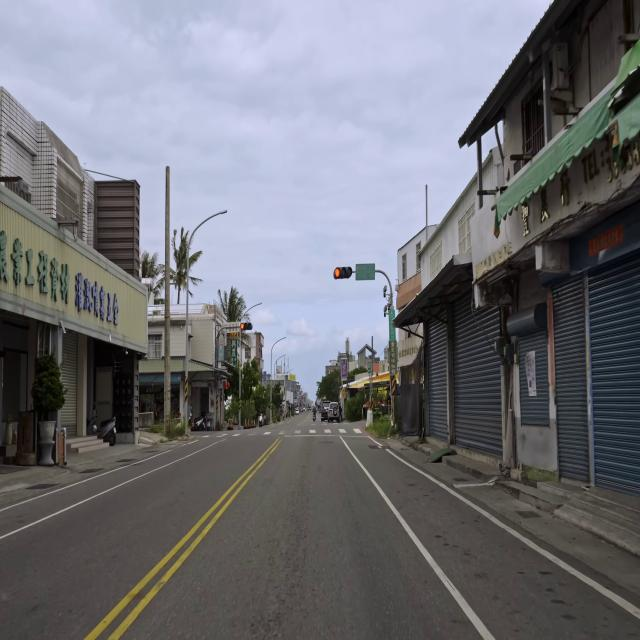red light: (333, 267, 352, 279), (240, 322, 253, 331)
